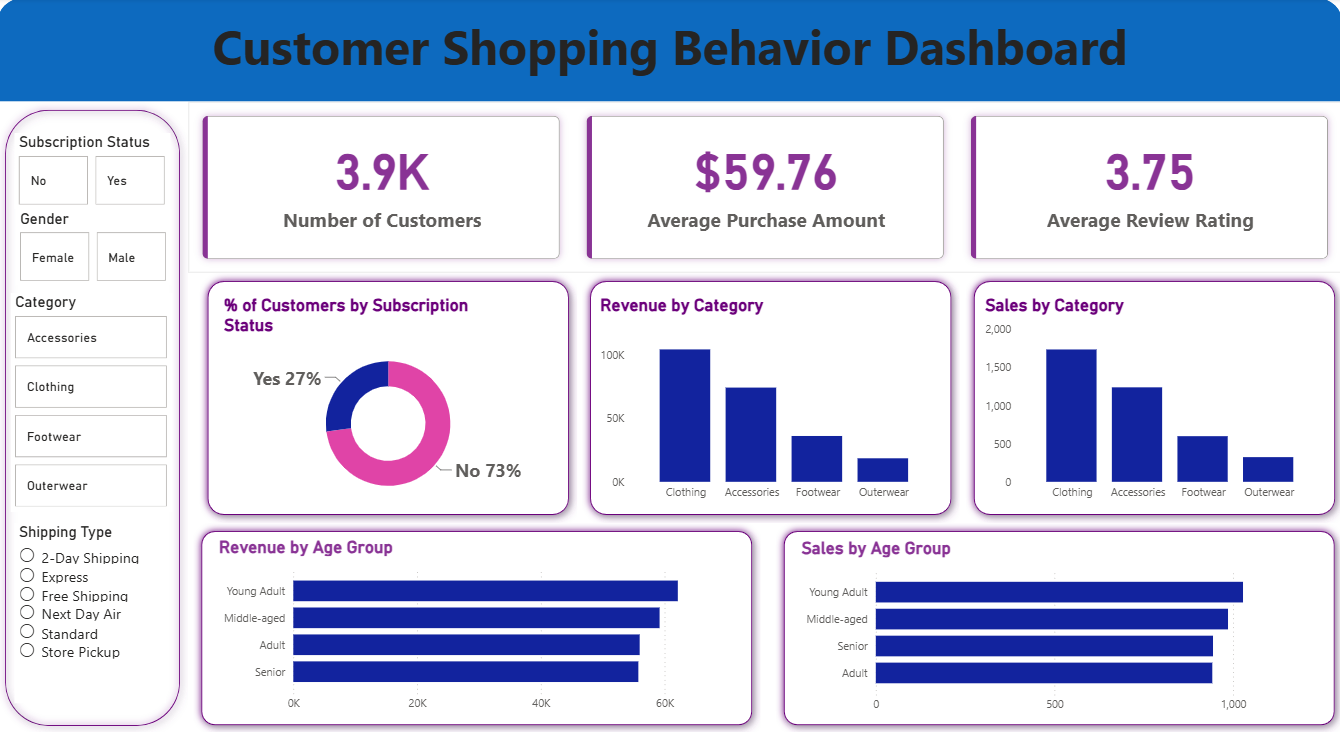

Layout of this report page (visuals, bound fields, positions):
{"tool":"powerbi","page":{"name":"Page 1","canvas":[1500,820],"ordinal":0},"visuals":[{"type":"cardVisual","fields":{"Data":["public customer.Number of Customers","public customer.Average Purchase Amount","public customer.Average Review Rating"]},"box":[212.9,115.3,1286.5,191.6],"z":2000},{"type":"shape","box":[218.3,585.6,631.7,234.2],"z":2500,"group":"g1"},{"type":"shape","box":[0,0,1499.4,115.3],"z":3000},{"type":"textbox","box":[0,12.5,1499.9,82.2],"z":4000},{"type":"shape","box":[225.4,307,420.5,278.6],"z":5000},{"type":"donutChart","title":"% of Customers by Subscription Status","fields":{"Category":["public customer.subscription_status"],"Y":["CountNonNull(public customer.customer_id)"]},"box":[248.4,331.8,376.2,237.8],"z":6000},{"type":"shape","box":[1078.9,307,420.5,278.6],"z":7000},{"type":"shape","box":[652.1,307,420.5,278.6],"z":8000},{"type":"clusteredColumnChart","title":"Revenue by Category","fields":{"Y":["Sum(public customer.purchase_amount)"],"Category":["public customer.category"]},"box":[667.2,331.8,385.1,237.8],"z":9000},{"type":"clusteredColumnChart","title":"Sales by Category","fields":{"Y":["CountNonNull(public customer.customer_id)"],"Category":["public customer.category"]},"box":[1096.6,331.8,385.1,237.8],"z":10000},{"type":"shape","box":[0,115.6,212.9,704.5],"z":11000},{"type":"advancedSlicerVisual","fields":{"Values":["public customer.subscription_status"]},"box":[19.5,150.4,173.9,85.2],"z":12000},{"type":"advancedSlicerVisual","fields":{"Values":["public customer.gender"]},"box":[20.9,235.4,173.9,85.2],"z":13000},{"type":"advancedSlicerVisual","fields":{"Values":["public customer.category"]},"box":[15.3,328.7,179.7,243.7],"z":14000},{"type":"listSlicer","fields":{"Values":["public customer.shipping_type"]},"box":[19.5,584.9,168.5,200.5],"z":15000},{"type":"shape","box":[867.7,585.6,631.7,234.2],"z":16000},{"type":"clusteredBarChart","title":"Sales by Age Group","fields":{"Y":["CountNonNull(public customer.customer_id)"],"Category":["public customer.age_group"]},"box":[890.8,601.5,585.6,204.1],"z":17000},{"type":"clusteredBarChart","title":"Revenue by Age Group","fields":{"Y":["Sum(public customer.purchase_amount)"],"Category":["public customer.age_group"]},"box":[241.4,601.6,585.6,204.1],"z":17500,"group":"g1"},{"type":"group","id":"g1","title":"Group 1","box":[218.3,585.6,631.7,234.2],"z":17501}]}

Visuals, with their boxes in screenshot pixels (x1, y1, x2, y2), scaled from the page's 1500x820 canvas onto the 1340x732 screenshot:
cardVisual - public customer.Number of Customers x public customer.Average Purchase Amount: [left=190, top=103, right=1339, bottom=274]
shape: [left=195, top=523, right=759, bottom=731]
shape: [left=0, top=0, right=1339, bottom=103]
textbox: [left=0, top=11, right=1339, bottom=85]
shape: [left=201, top=274, right=577, bottom=523]
"% of Customers by Subscription Status" donutChart: [left=222, top=296, right=558, bottom=508]
shape: [left=964, top=274, right=1339, bottom=523]
shape: [left=583, top=274, right=958, bottom=523]
"Revenue by Category" clusteredColumnChart: [left=596, top=296, right=940, bottom=508]
"Sales by Category" clusteredColumnChart: [left=980, top=296, right=1324, bottom=508]
shape: [left=0, top=103, right=190, bottom=731]
advancedSlicerVisual - public customer.subscription_status: [left=17, top=134, right=173, bottom=210]
advancedSlicerVisual - public customer.gender: [left=19, top=210, right=174, bottom=286]
advancedSlicerVisual - public customer.category: [left=14, top=293, right=174, bottom=511]
listSlicer - public customer.shipping_type: [left=17, top=522, right=168, bottom=701]
shape: [left=775, top=523, right=1339, bottom=731]
"Sales by Age Group" clusteredBarChart: [left=796, top=537, right=1319, bottom=719]
"Revenue by Age Group" clusteredBarChart: [left=216, top=537, right=739, bottom=719]
"Group 1" group: [left=195, top=523, right=759, bottom=731]
